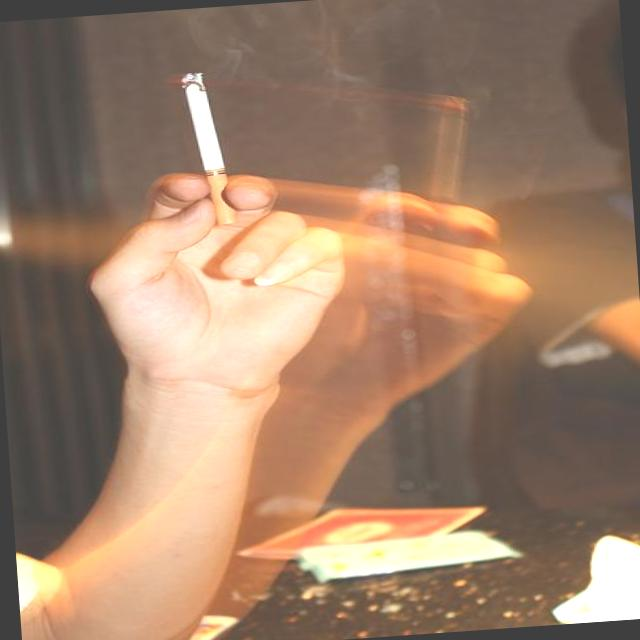cigarette: (162, 74, 248, 235)
